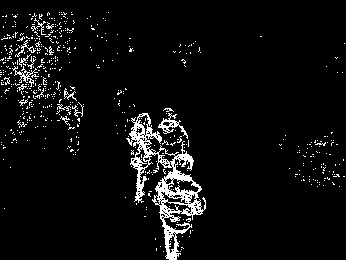person: (155, 154, 206, 260), (127, 113, 156, 201), (155, 105, 188, 173), (57, 86, 86, 156)
